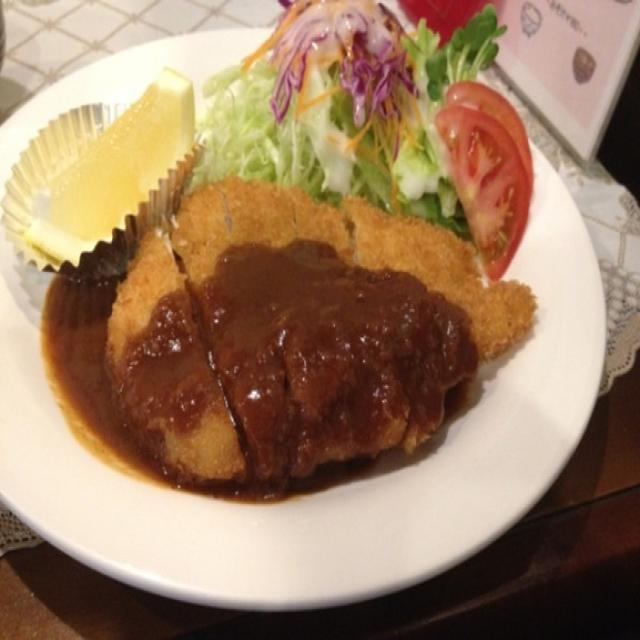鸡肉料理 含炸鸡: (91, 183, 548, 490)
